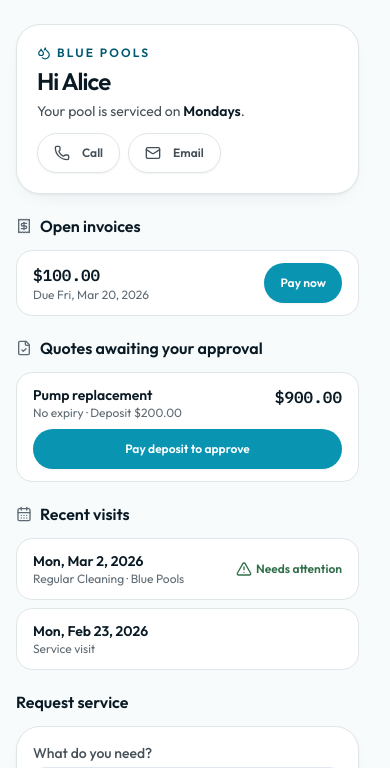
Scenario: CustomerPortalPage › renders the customer view from the token
The image size is (390, 768).
Expected: the heading "Hi Alice" is shown, [37,66,110,96]
Expected: the text "Blue Pools" is shown, [37,45,150,60]
Click the button "Mon, Mar 2, 2026". click: [88, 561]
box: [17,539,358,599]
(page scrolled)
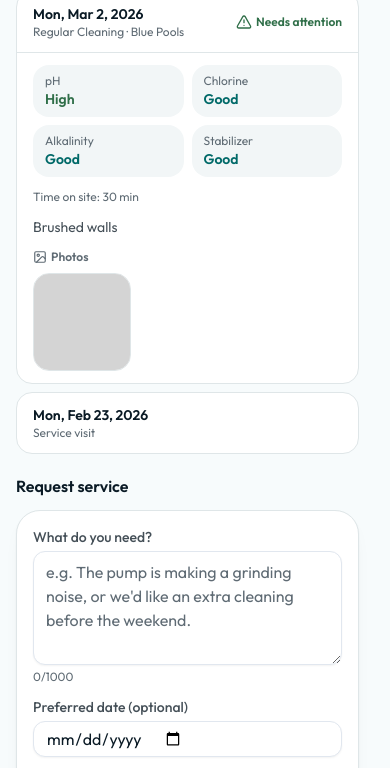
Expected: the text "Brushed walls" is shown, [33,218,117,236]
Expected: the text "high" is shown, [45,90,74,108]
